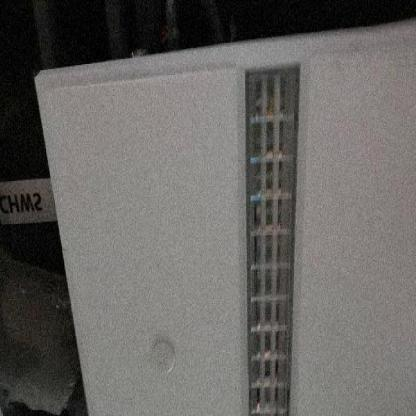light_off: (233, 44, 310, 415)
